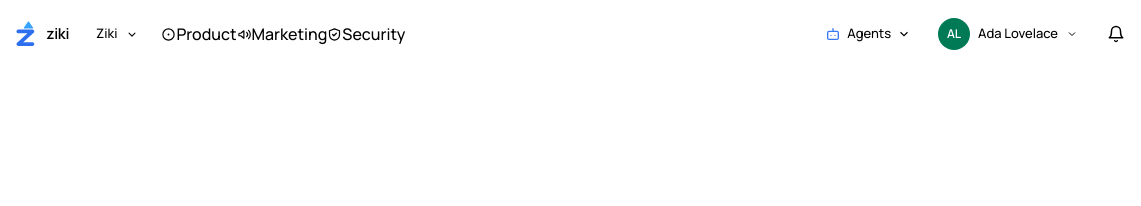
Scenario: account menu role switch › closes the Agents menu when a destination is chosen
Click the button "Agents" at (868, 34), box [811,14,925,54]
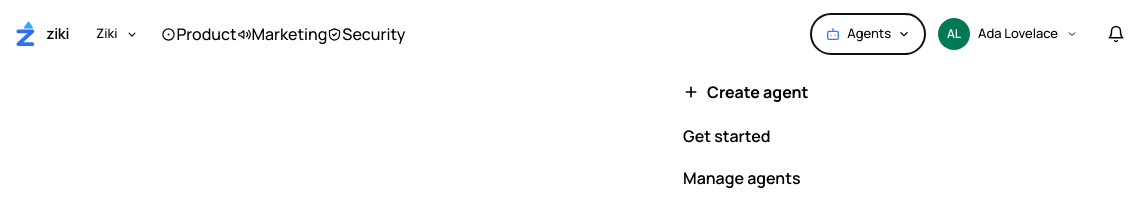
Expected: the button "Agents" is expanded, [811,14,925,54]
Click the link "Manage agents" at (742, 178), box [683,167,801,189]
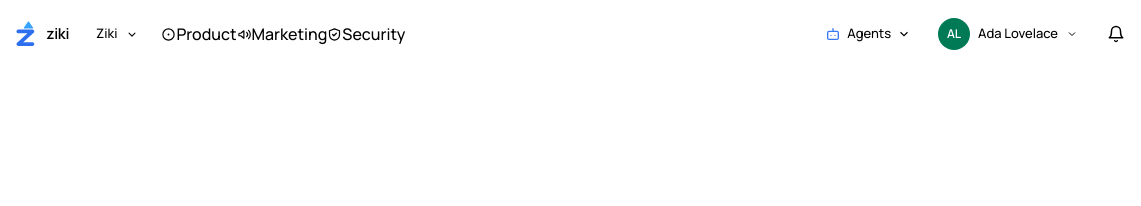
Expected: the button "Agents" is collapsed, [811,14,925,54]
